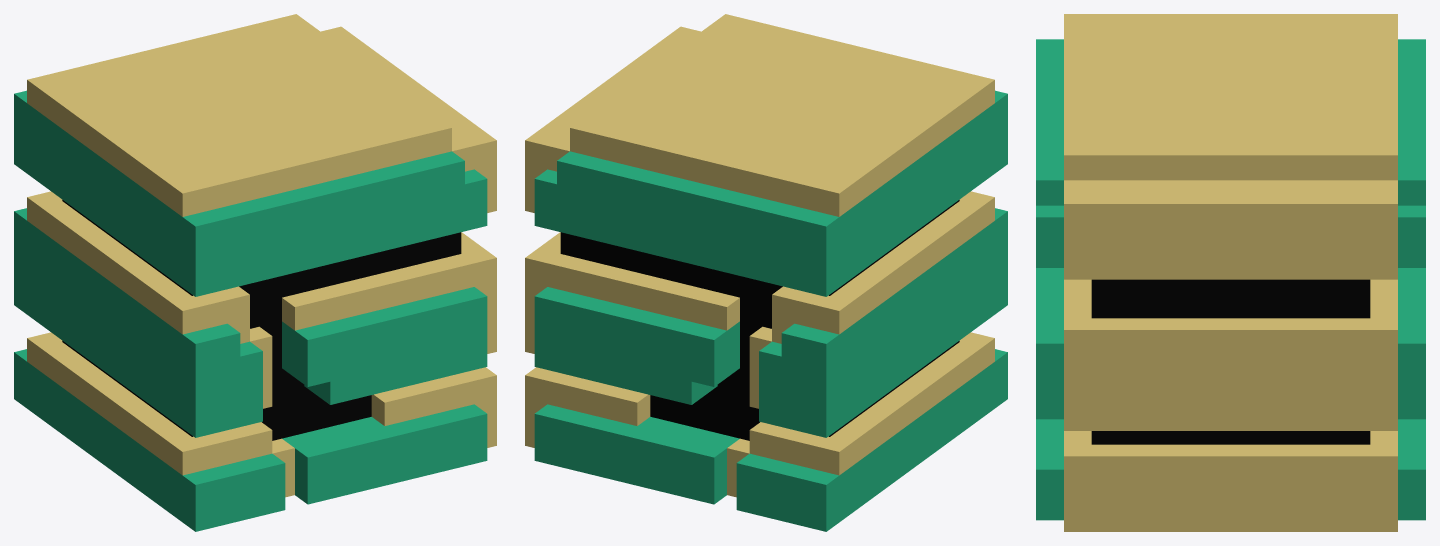
The model's file is br-m-brick-green.fbx.
3 views of the same model, side by side, from view 1: azimuth 30°, elevation 25°; view 2: azimuth 150°, elevation 25°; view 3: azimuth 270°, elevation 25° (orthographic). The views are drawn at different scales.
Parts seen in each view (by area): view 1: pCube406, pCube405, pCube384; view 2: pCube406, pCube405, pCube384; view 3: pCube405, pCube406, pCube384.
Part boxes in pixels (x1,y1,x2,y2): pCube406: (14, 90, 487, 531); pCube405: (27, 14, 496, 497); pCube384: (62, 200, 461, 440); pCube406: (534, 90, 1007, 531); pCube405: (525, 14, 994, 497); pCube384: (560, 200, 959, 440); pCube405: (1064, 14, 1397, 531); pCube406: (1036, 39, 1425, 520); pCube384: (1091, 279, 1370, 444).
Size of the model in its own units: 0.875 by 0.875 by 0.875.
